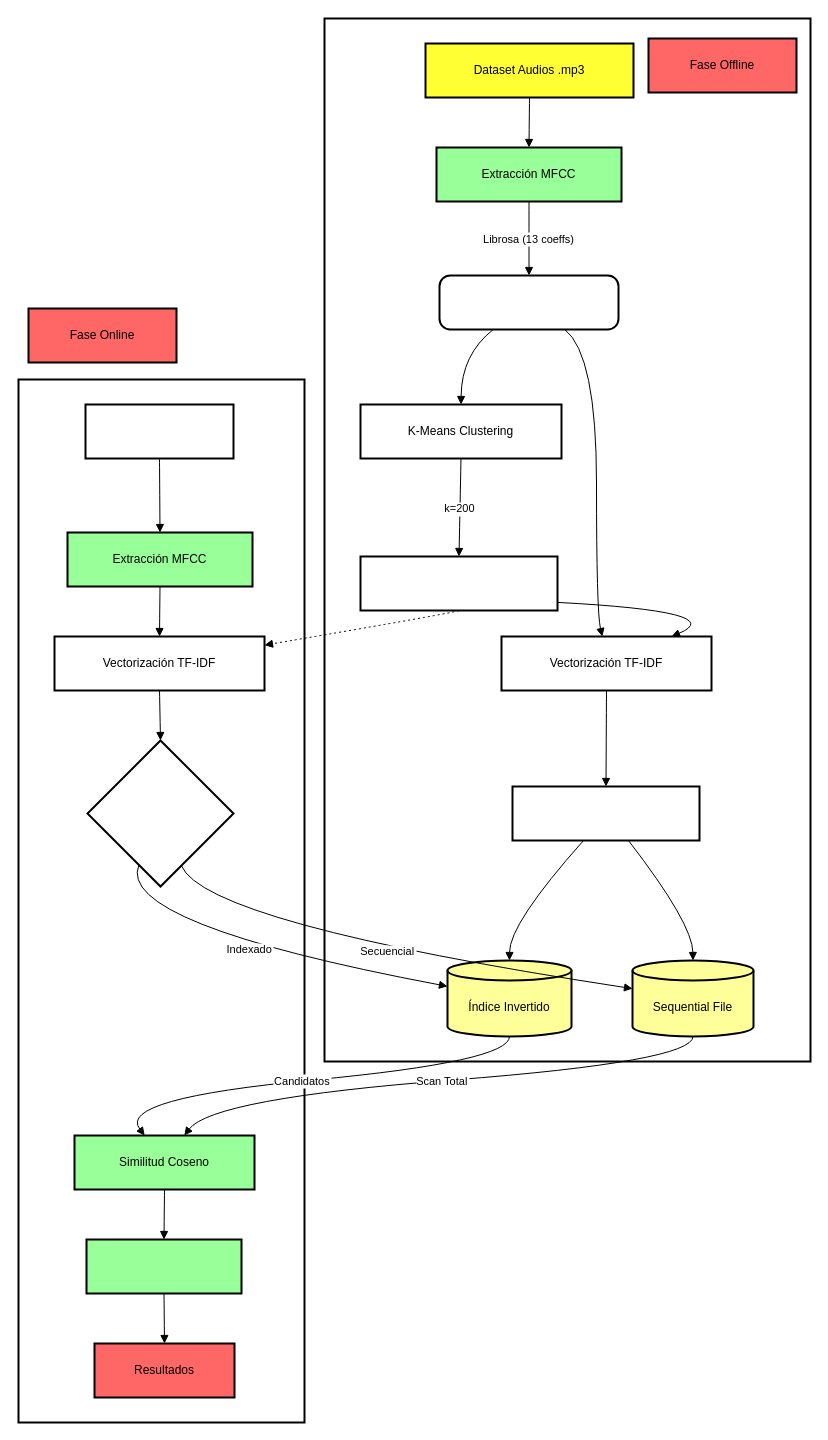
Image size: 828x1440. Some labels were removed from this diagram. The centre of each missing label's shape, as x and y in pixels:
"Codebook Acústico" goes at (x=458, y=583).
"Descriptores Locales" goes at (x=528, y=302).
"Heap (Top-K)" goes at (x=163, y=1266).
"Método KNN" goes at (x=160, y=813).
"Query Audio" goes at (x=159, y=431).
"Vectores 200-Dim" goes at (x=605, y=813).
